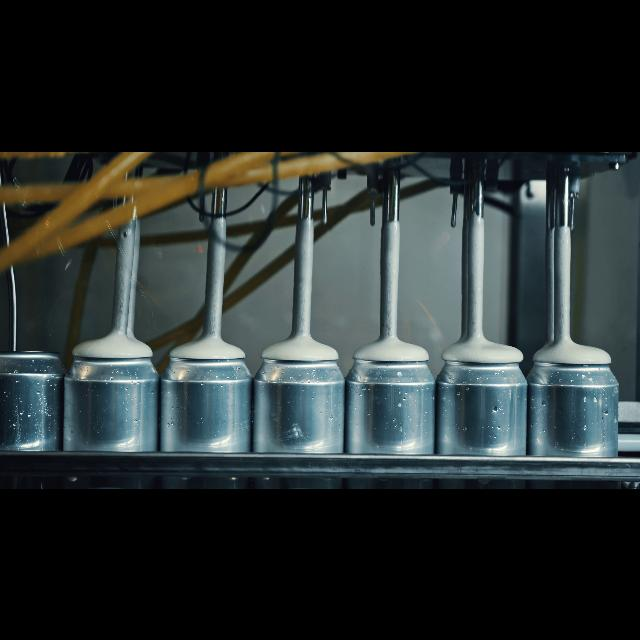empty: (2, 344, 62, 488)
full: (67, 329, 151, 489), (257, 329, 341, 488), (347, 330, 431, 488), (162, 330, 245, 488), (438, 332, 522, 488), (533, 332, 617, 488)
